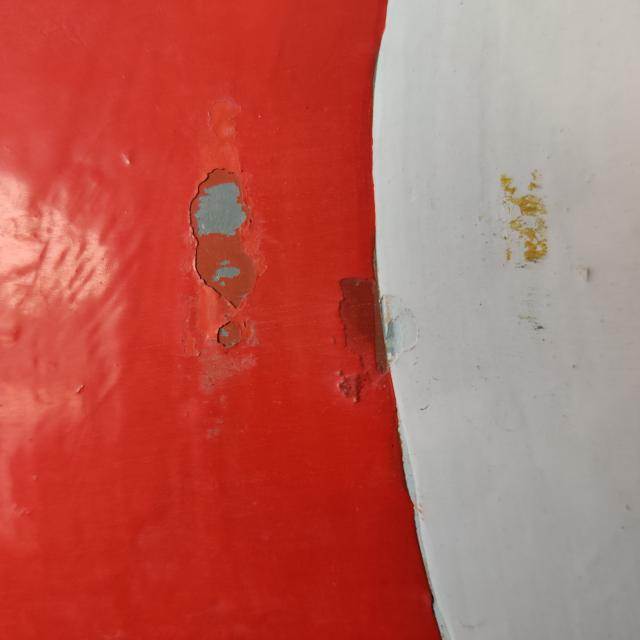paint-off: (166, 140, 278, 362), (318, 252, 435, 420), (478, 156, 567, 279)
